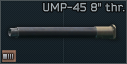HK UMP .45 ACP 8 inch threaded barrel: (0, 0, 127, 64)
